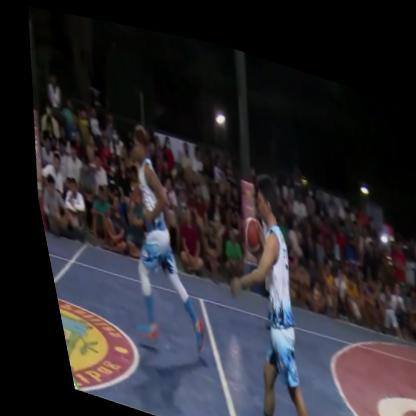basketball: (228, 203, 261, 255)
